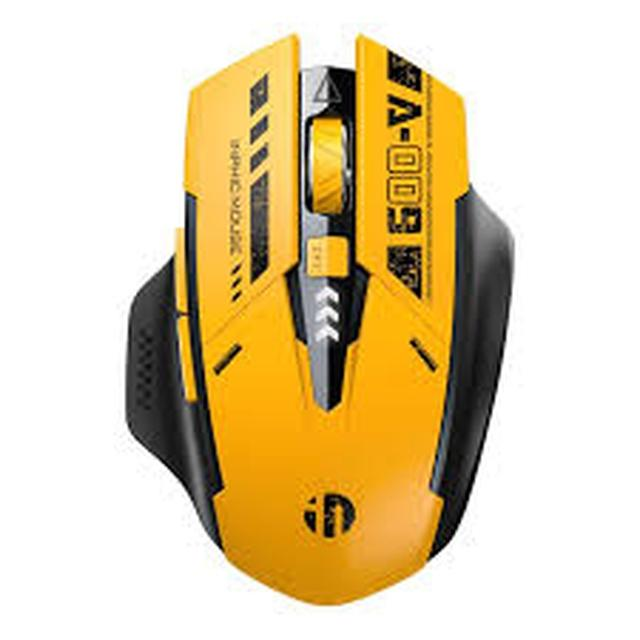mouse: (146, 19, 536, 602)
